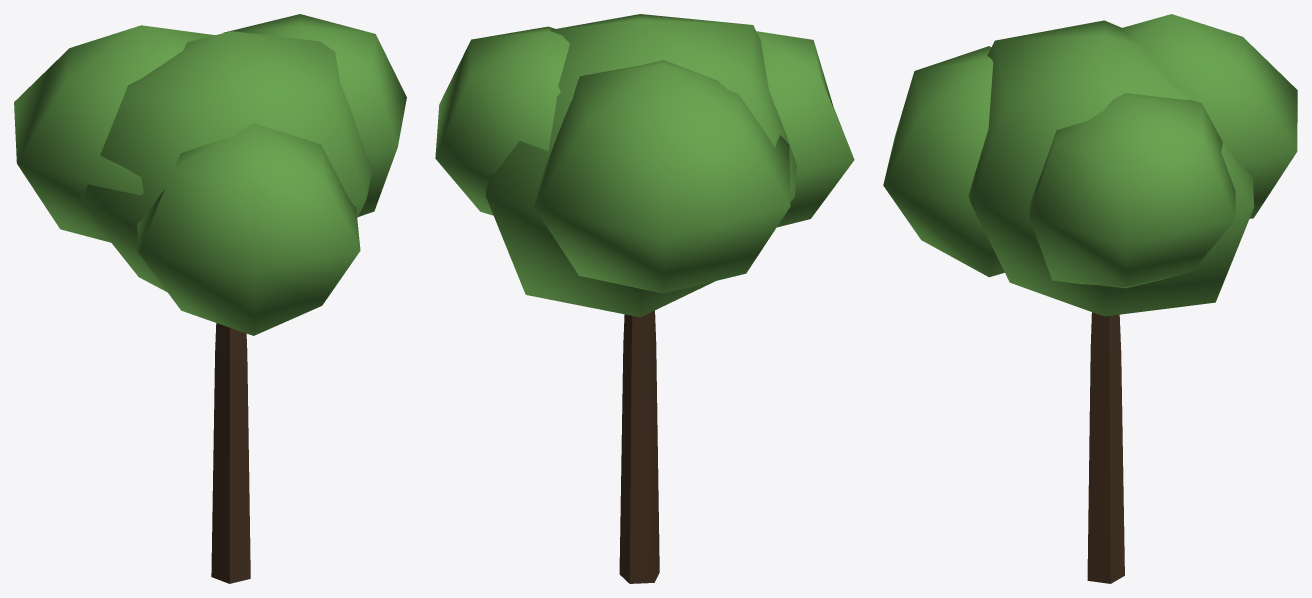
Rendered from tree_08.glb.
The picture shows the model from 3 angles, left to right: view 1: azimuth 30°, elevation 25°; view 2: azimuth 150°, elevation 25°; view 3: azimuth 270°, elevation 25°; orthographic projection. The views are drawn at different scales.
Parts seen in each view (by area): view 1: 树_08; view 2: 树_08; view 3: 树_08.
Part boxes in pixels (box(x1,y1,x2,y2)): 树_08: box(14, 14, 406, 583); 树_08: box(435, 14, 854, 583); 树_08: box(883, 14, 1297, 583).
Bounding box in the file's own units: 4.94 × 7 × 4.88.
